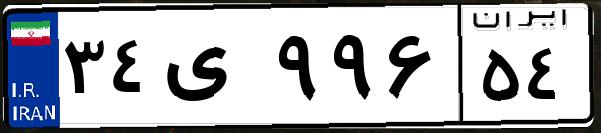3: (57, 26, 110, 100)
4: (525, 38, 570, 115), (110, 28, 158, 98)
5: (475, 38, 525, 113)
6: (385, 28, 445, 110)
9: (270, 28, 330, 110), (330, 28, 385, 110)
ی: (158, 20, 270, 120)
